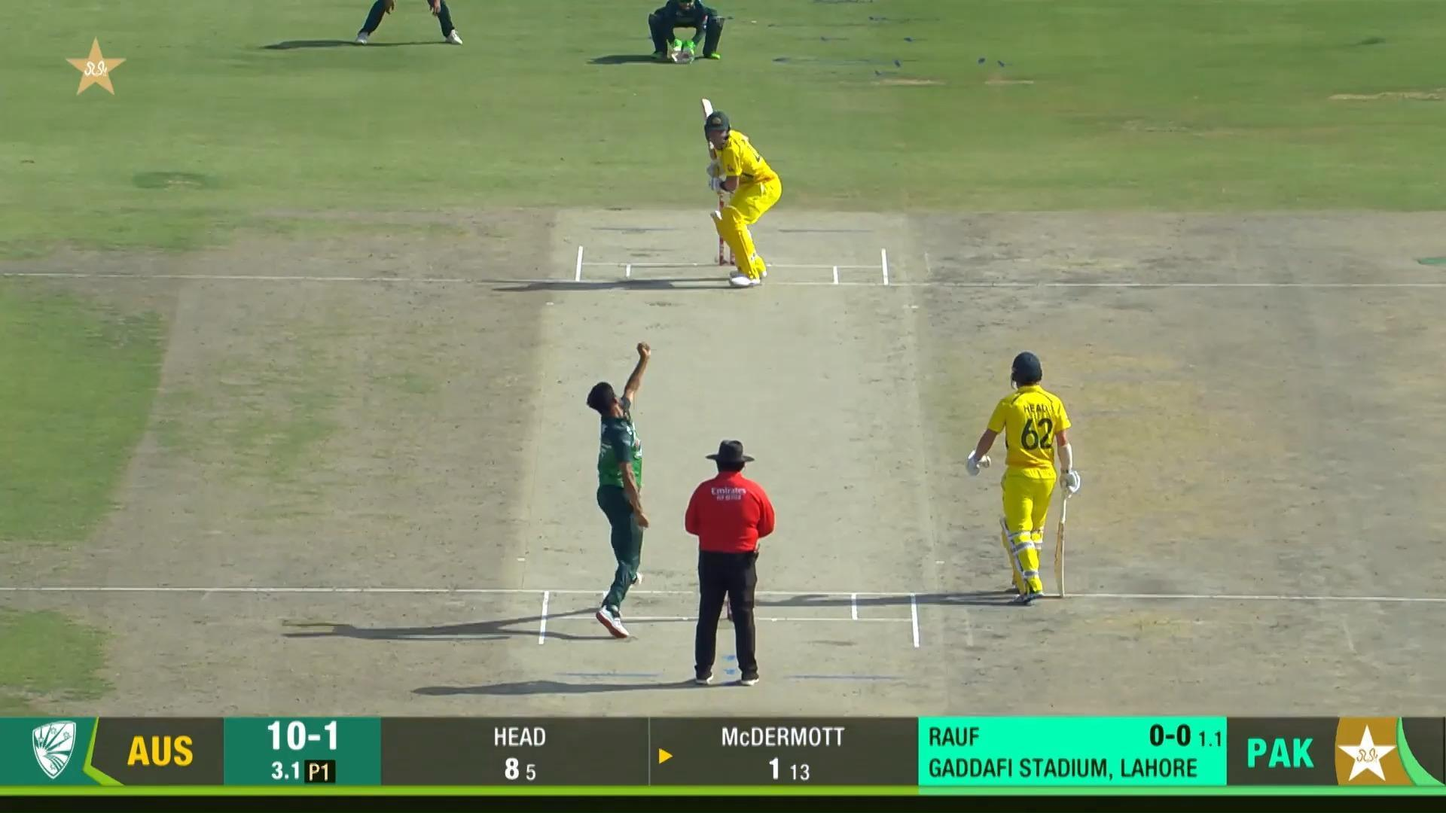BM 1: (700, 99, 782, 288)
BO: (585, 339, 653, 640)
